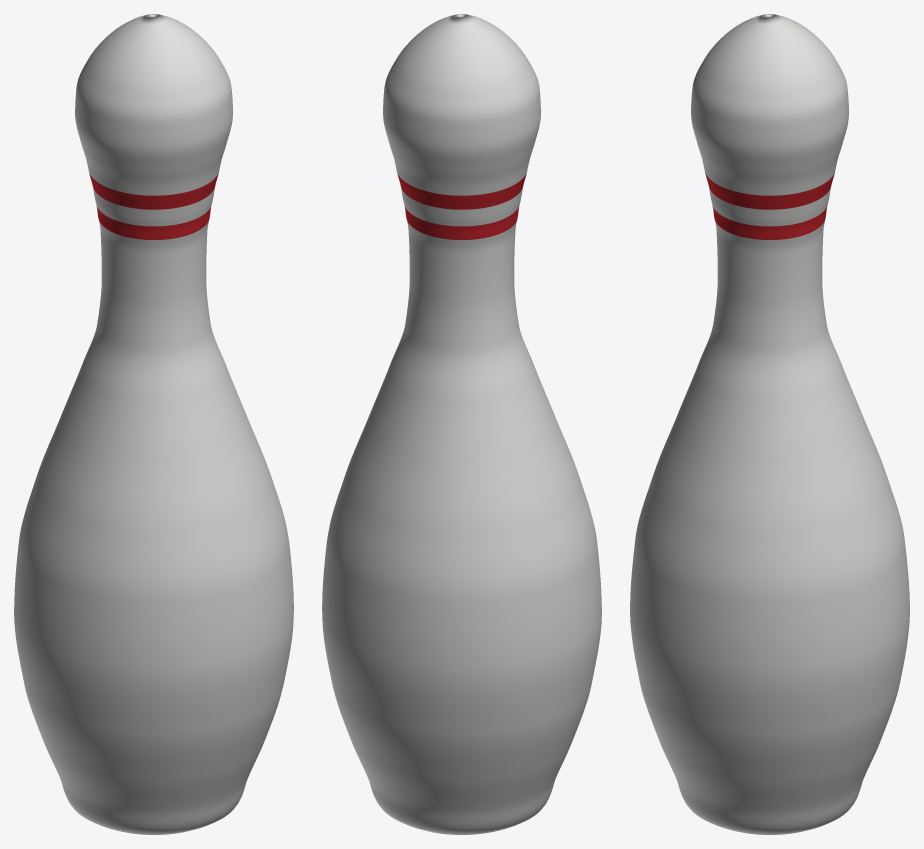
File: Pino_Bolos.obj
The picture shows the model from 3 angles, left to right: view 1: azimuth 30°, elevation 25°; view 2: azimuth 150°, elevation 25°; view 3: azimuth 270°, elevation 25°; orthographic projection.
Visible parts, largest first — view 1: Blanco, Rojo; view 2: Blanco, Rojo; view 3: Blanco, Rojo.
Part boxes in pixels (x1,y1,x2,y2): Blanco: (14, 14, 293, 834); Rojo: (89, 173, 218, 239); Blanco: (322, 14, 601, 834); Rojo: (397, 173, 526, 239); Blanco: (630, 14, 909, 834); Rojo: (705, 172, 834, 239).
Size of the model in its own units: 0.418 by 1.3 by 0.418.
